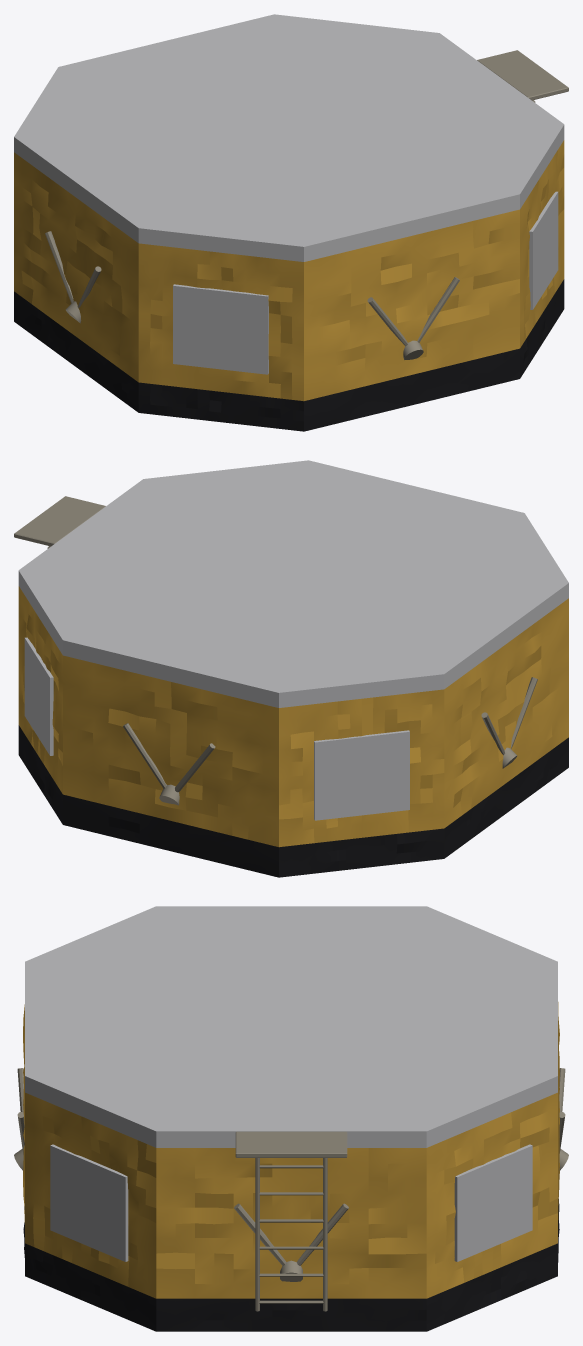
File: lm_descent_stage.glb
3 renders of one model, top to bottom at view 1: azimuth 30°, elevation 25°; view 2: azimuth 150°, elevation 25°; view 3: azimuth 270°, elevation 25°, orthographic. The views are drawn at different scales.
Parts seen in each view (by area): view 1: LM_Deck, LM_Gold, LM_Skirt, LM_Bay_Covers, LM_Struts; view 2: LM_Deck, LM_Gold, LM_Skirt, LM_Bay_Covers, LM_Struts; view 3: LM_Deck, LM_Gold, LM_Skirt, LM_Bay_Covers, LM_Struts.
Boxes of the visible parts, left/top/right/bottom form: LM_Deck: left=14, top=14, right=564, bottom=261; LM_Gold: left=14, top=140, right=564, bottom=401; LM_Skirt: left=14, top=279, right=564, bottom=431; LM_Bay_Covers: left=173, top=191, right=558, bottom=374; LM_Struts: left=45, top=50, right=568, bottom=359; LM_Deck: left=18, top=460, right=568, bottom=707; LM_Gold: left=18, top=586, right=568, bottom=847; LM_Skirt: left=18, top=725, right=568, bottom=877; LM_Bay_Covers: left=24, top=637, right=409, bottom=820; LM_Struts: left=14, top=496, right=537, bottom=805; LM_Deck: left=25, top=906, right=557, bottom=1147; LM_Gold: left=23, top=1002, right=559, bottom=1298; LM_Skirt: left=23, top=1199, right=559, bottom=1331; LM_Bay_Covers: left=50, top=1144, right=532, bottom=1261; LM_Struts: left=14, top=1068, right=568, bottom=1311.
Bounding box in the file's own units: 4.58 × 1.7 × 4.27.
